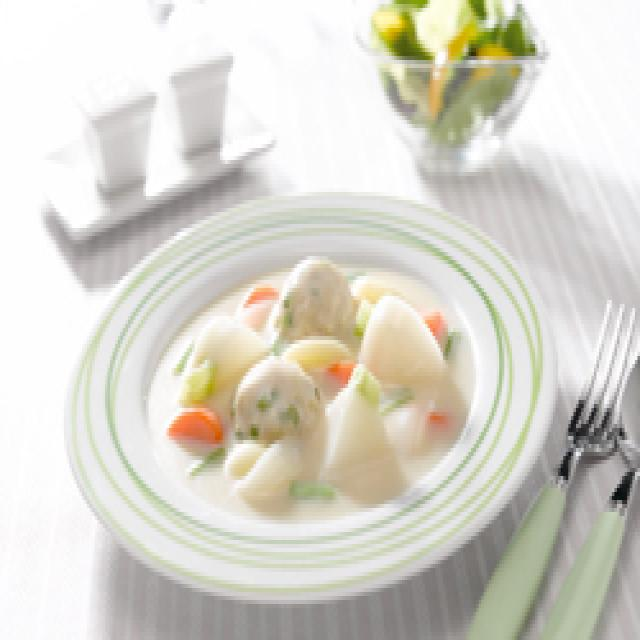汤锅炖物: (79, 180, 558, 600)
